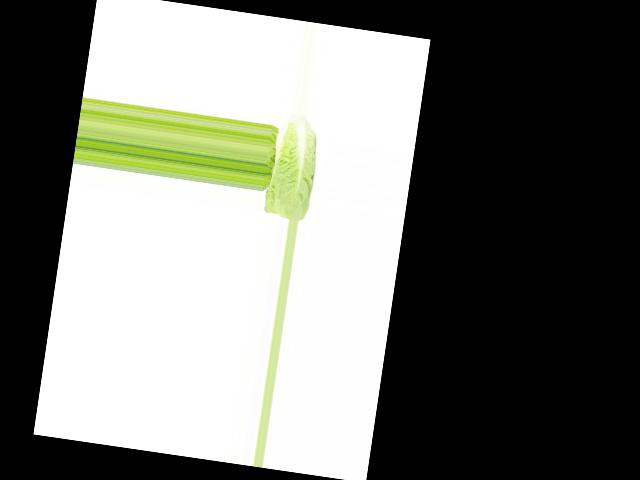lettuce: (264, 112, 329, 224)
